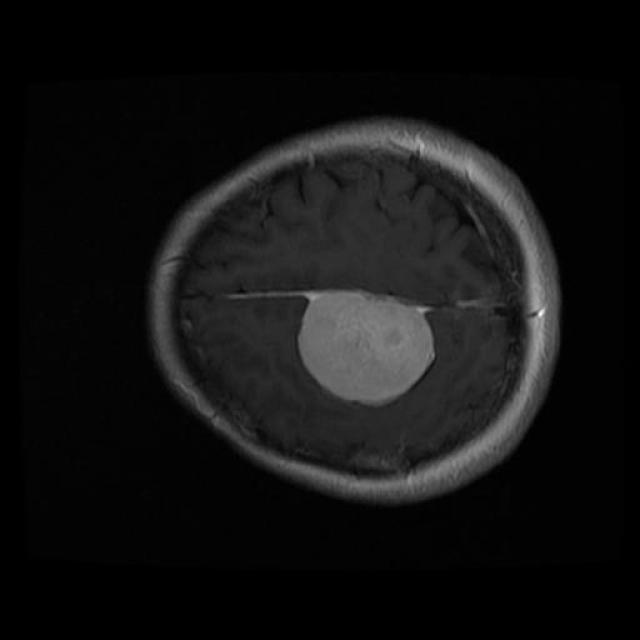Meningioma: (297, 291, 434, 406)
